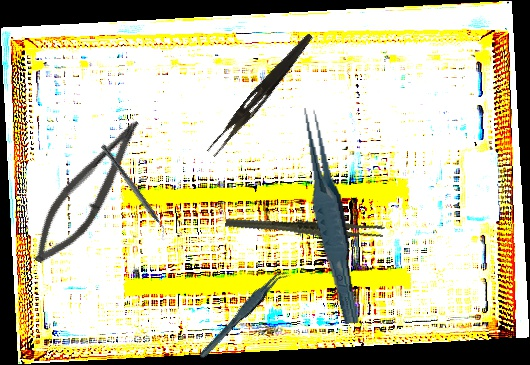Chopper: (94, 143, 173, 242)
Dressing Forceps: (206, 28, 315, 161)
Micro Scissor: (21, 106, 152, 276)
Tissue Forceps: (300, 104, 361, 327), (224, 188, 386, 266), (189, 267, 298, 360)
